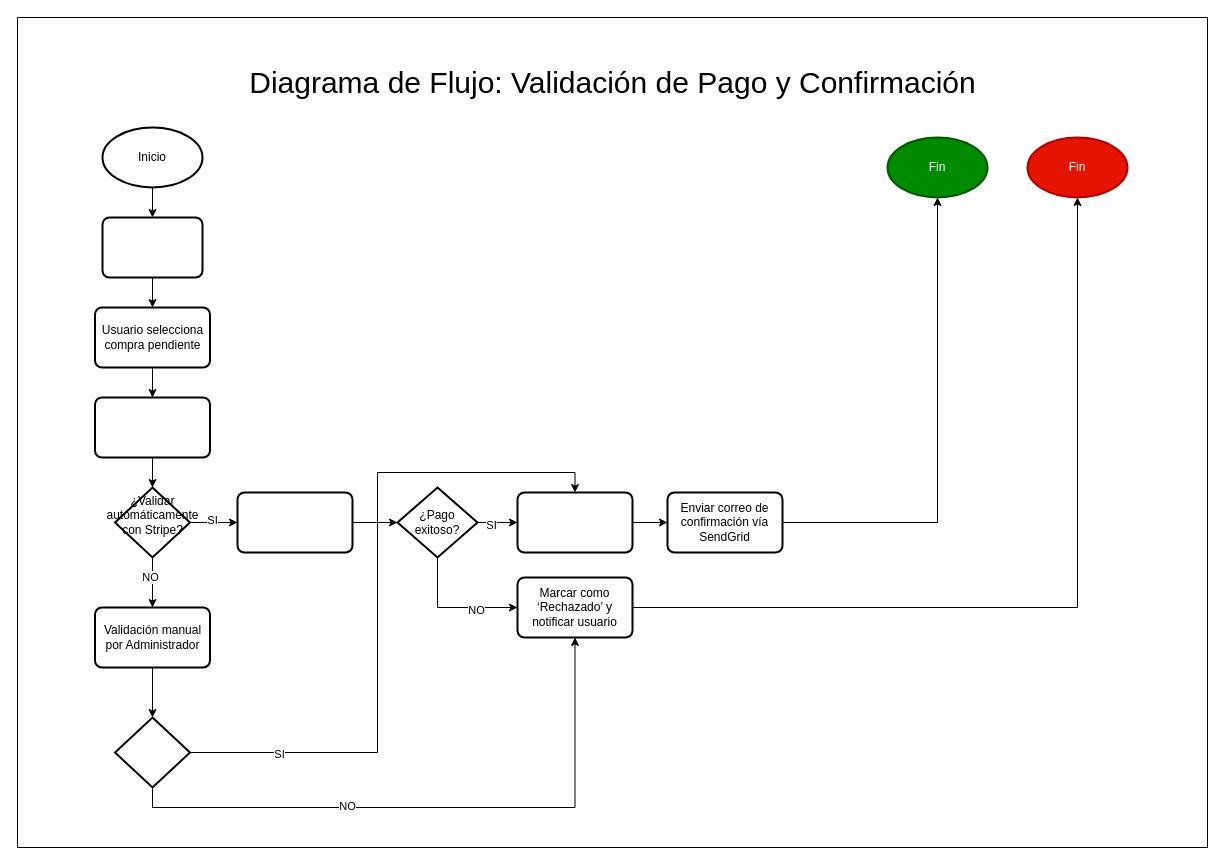
Some shapes in this 1225 by 865 pixel diagram are drawn without their labels. Each missing label, with the centre of its shape:
"Actualizar estado en PostgreSQL a ‘Aprobado'" goes at (574,522).
"Llamar API Stripe (Payment Intents)" goes at (294,522).
"Usuario autenticado" goes at (152,247).
"Usuario sube comprobante (PDF/imagen)" goes at (152,427).
"¿Administrador aprueba?" goes at (152,752).
